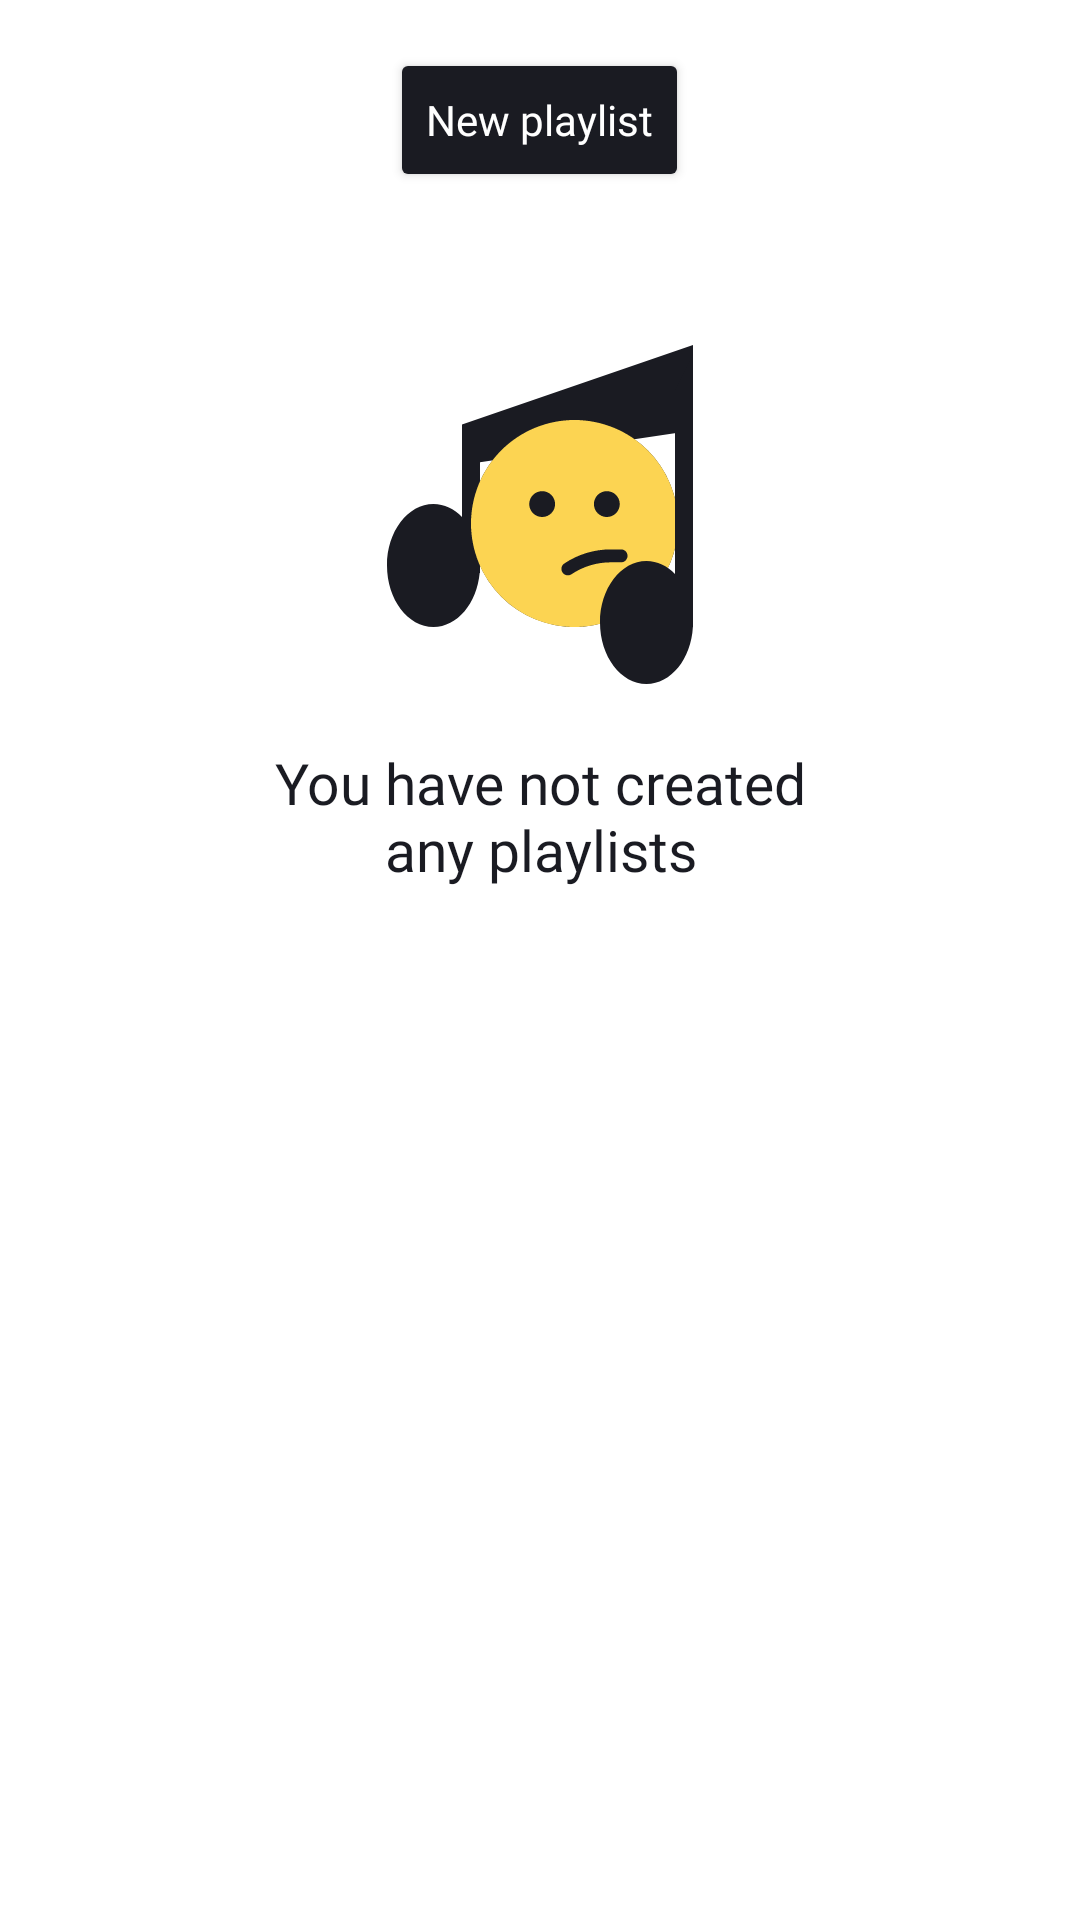

Icons on this 1080px x 1920px Android screen, each with the point to tap as [x,y]:
nothing found: [540,514]
